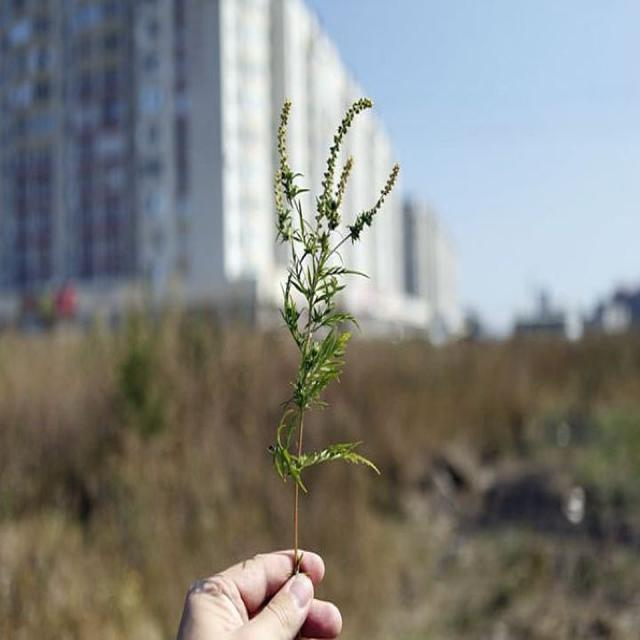ambrosia: (255, 73, 400, 518)
